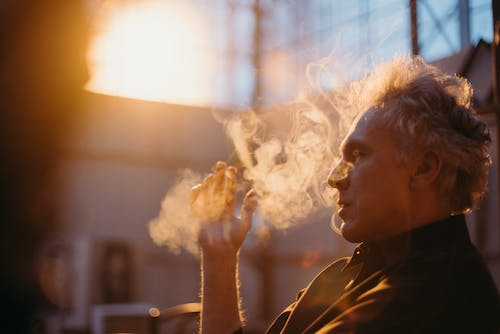cigarette: (223, 168, 235, 182)
